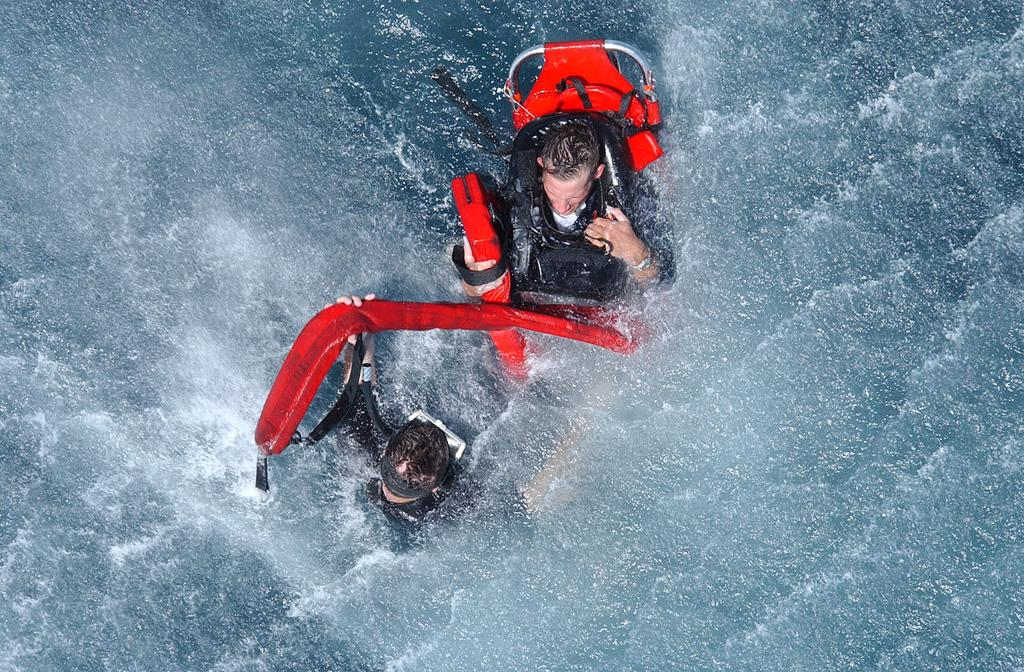face: (541, 166, 592, 215), (379, 484, 418, 503)
